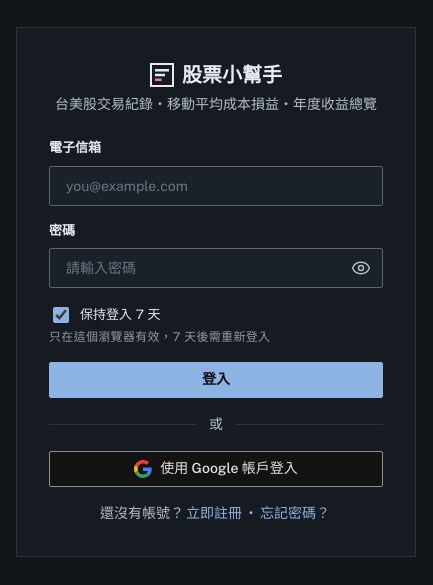
it: AuthPage › A4: the remember option is only offered when signing in
This screenshot has width=433, height=585.
Click the button "立即註冊".
click(214, 513)  # box x1=184 y1=503 x2=244 y2=524
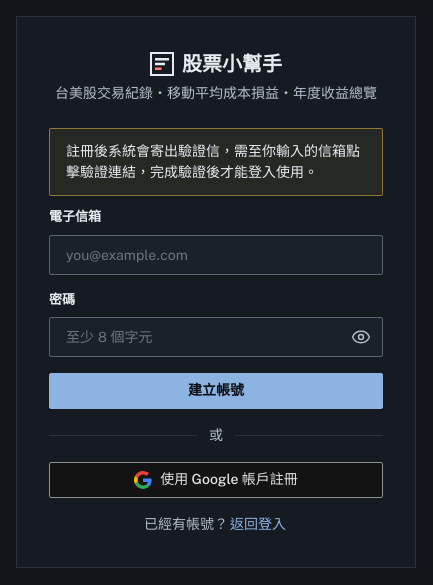
Check: the button named "顯示密碼" is shown, box x1=343 y1=319 x2=379 y2=355
Check: the label labelled "保持登入 7 天" is gone
